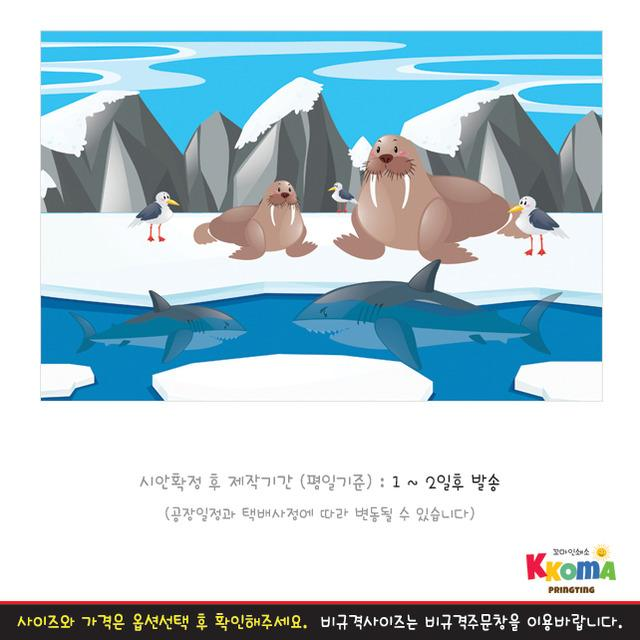walrus: (340, 131, 511, 266), (182, 177, 322, 265)
